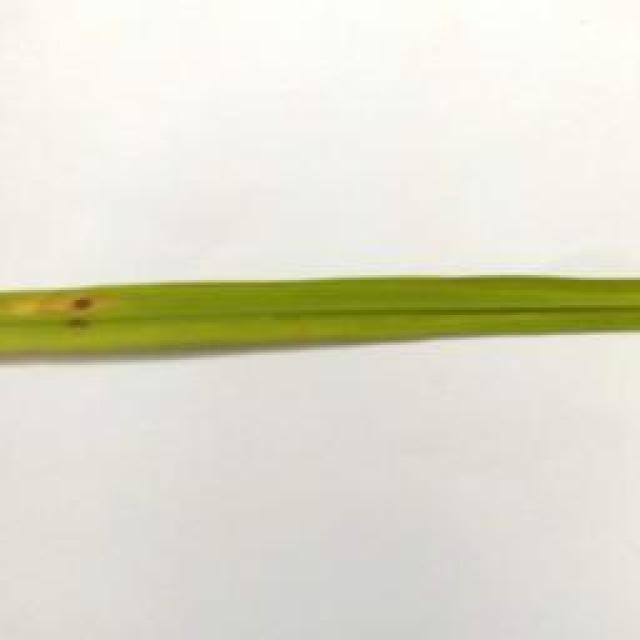Brown_Spot: (20, 290, 138, 335)
